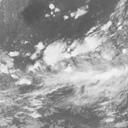cyclone: (34, 41, 89, 105)
